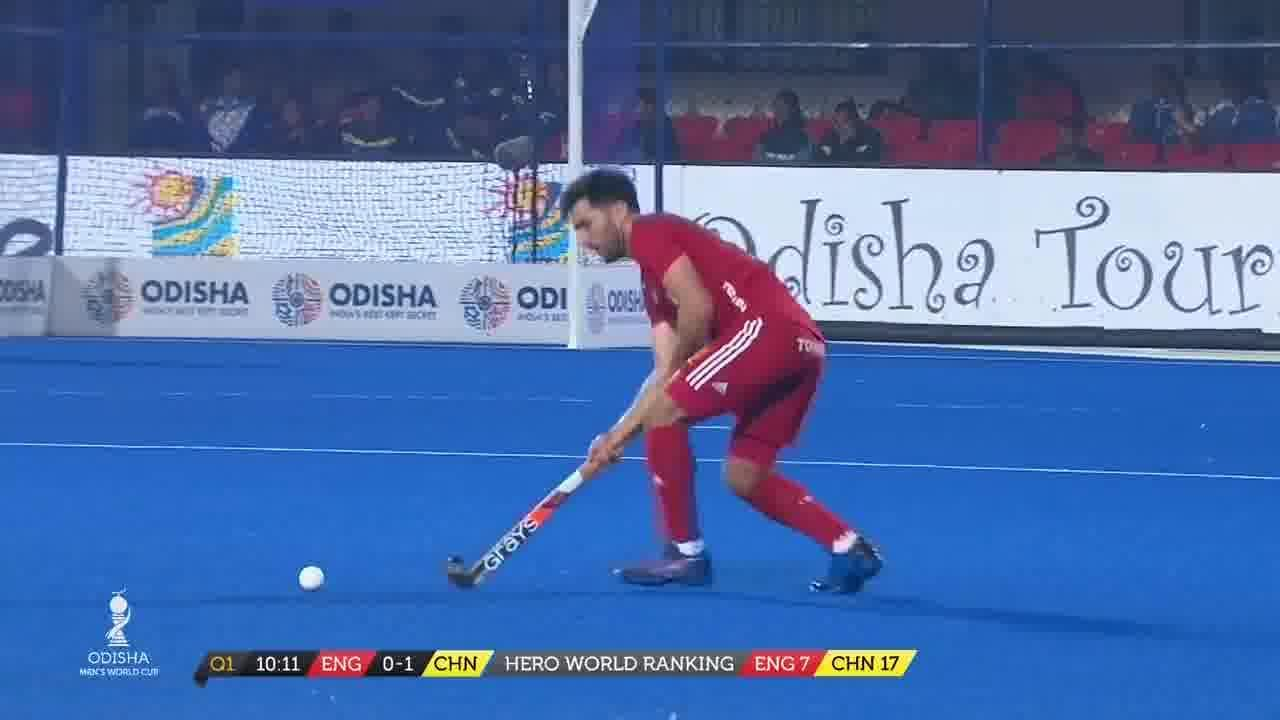ball: (284, 547, 342, 610)
